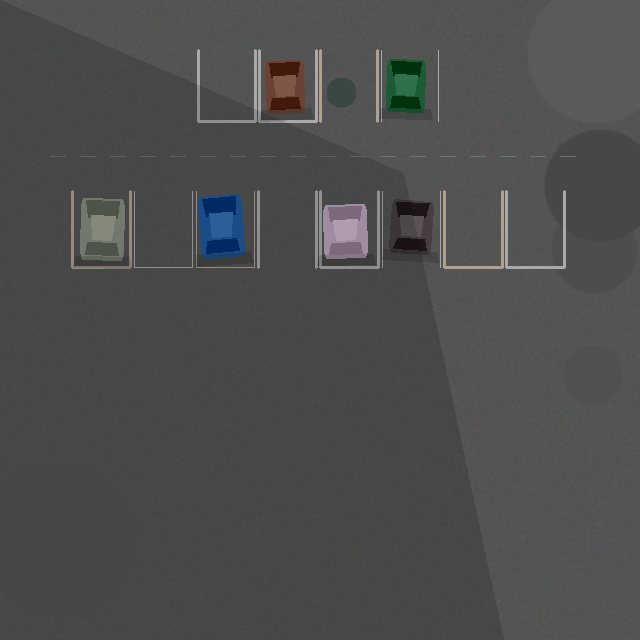space-empty: (134, 191, 192, 267), (258, 191, 316, 267), (444, 191, 502, 267), (506, 191, 564, 267), (198, 50, 255, 121), (320, 50, 377, 121)
space-occupied: (72, 191, 130, 267), (196, 191, 254, 267), (320, 191, 378, 267), (382, 191, 440, 267), (259, 50, 316, 121), (381, 50, 438, 121)
